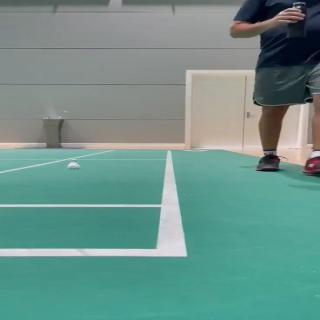Shuttle: (68, 158, 80, 168)
